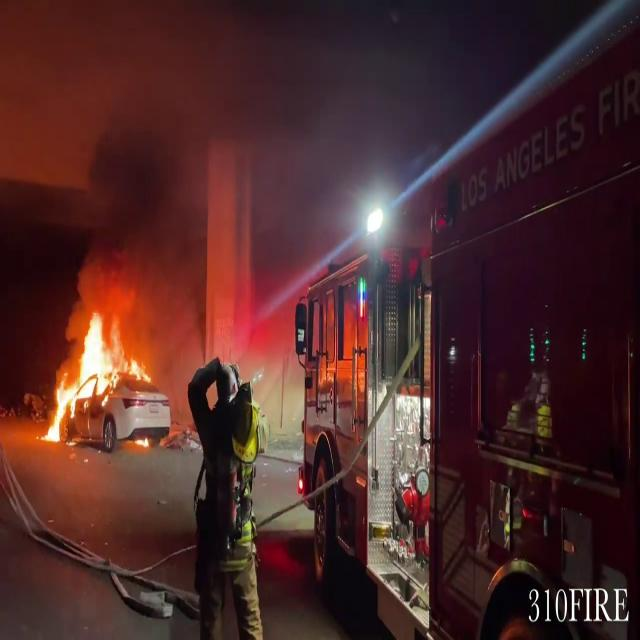Fire: (39, 304, 145, 443)
Smoke: (68, 111, 208, 324)
